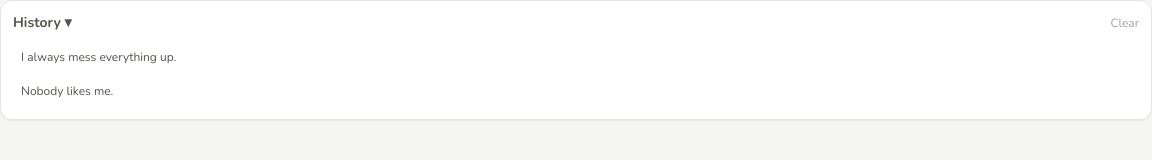
it: HistoryPanel › hides entries when the toggle is clicked
Click the button "History ▾" at (42, 23), box [13,13,72,33]
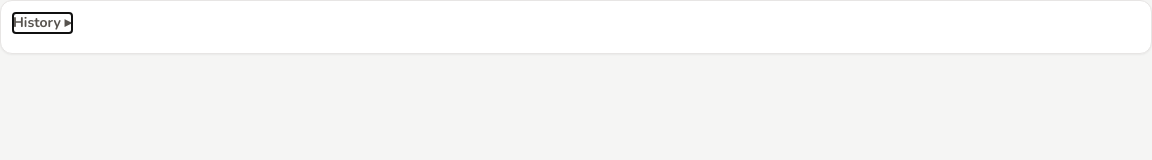
Expected: the button "I always mess everything up." is gone
